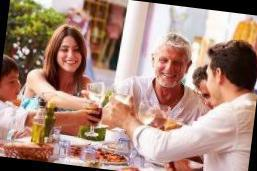Drunk: (155, 47, 186, 87), (59, 36, 81, 72)
